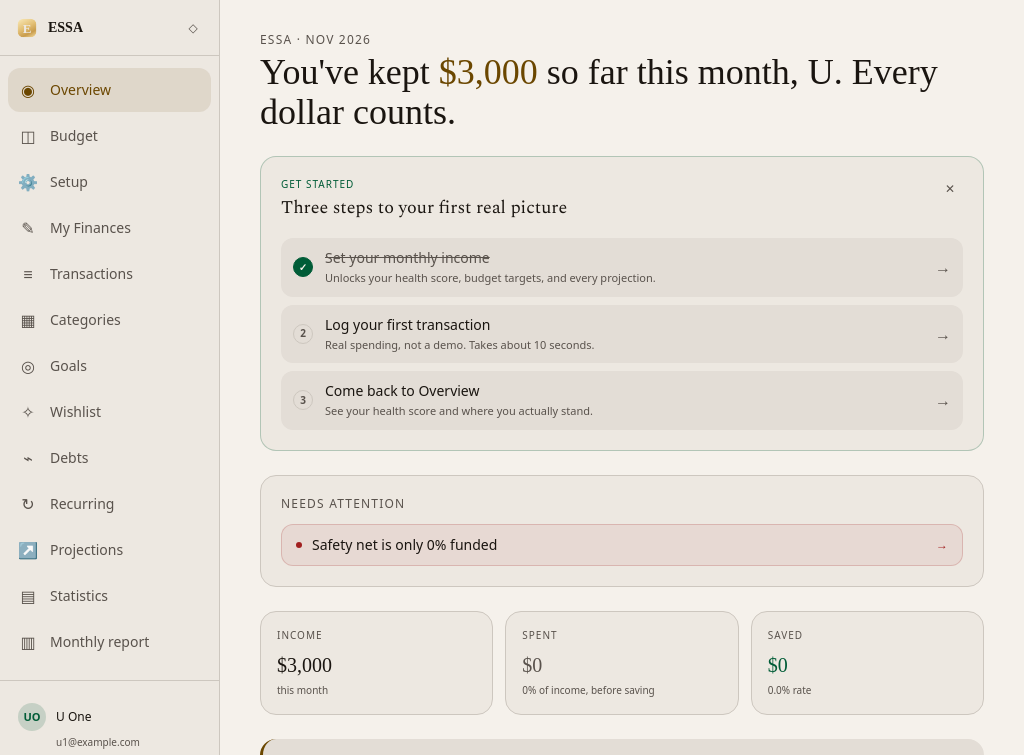
R8: the failed-backup notice sits in the page flow on a phone › stays in the flow when a save error shows too, under the save error, which is in the flow as well
Check: the button "⚙ Setup" is shown, box [8,160,211,204]
Click the button "✧ Wishlist" at (110, 412), box [8,390,211,434]
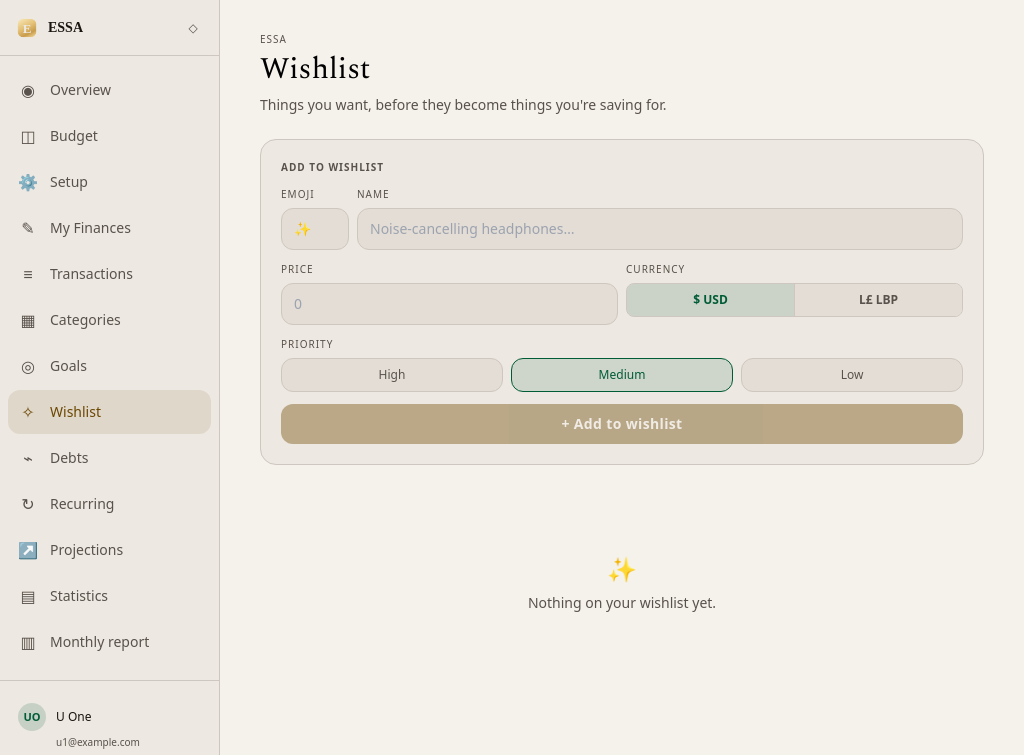
Type "Amber stool" into the field with id "wish-name" at (660, 229), box [357,208,963,250]
Type "22.15" into the field with id "wish-price" at (450, 304), box [281,283,618,325]
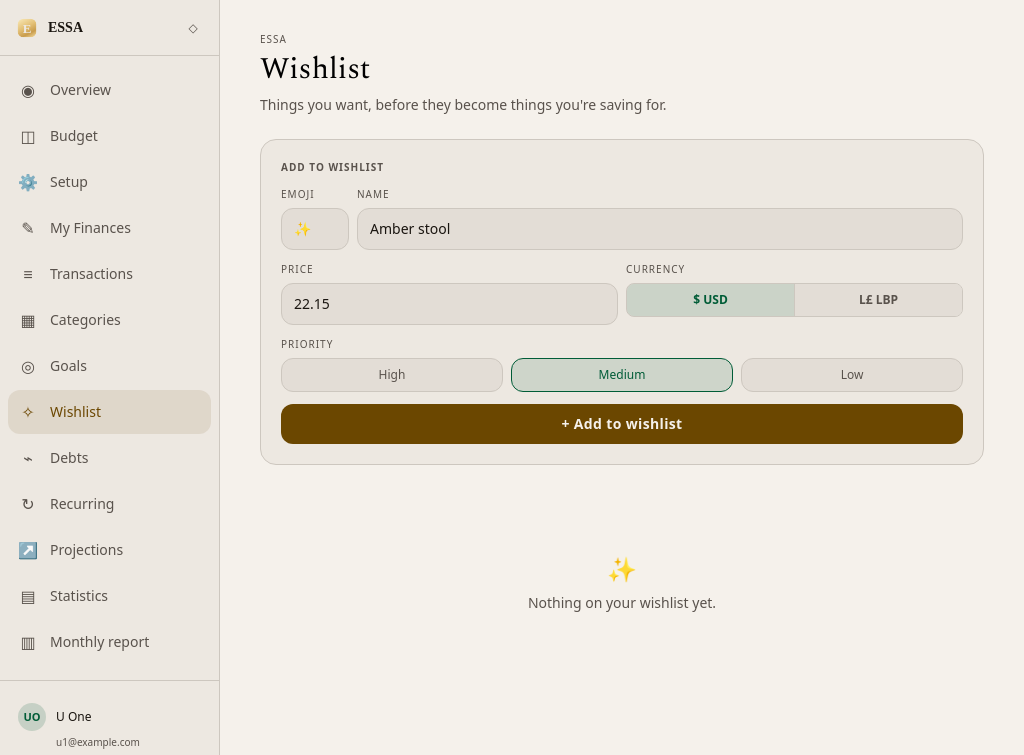
Click the button "+ Add to wishlist" at (622, 424), box [281,404,963,444]
Wait 3000 ms
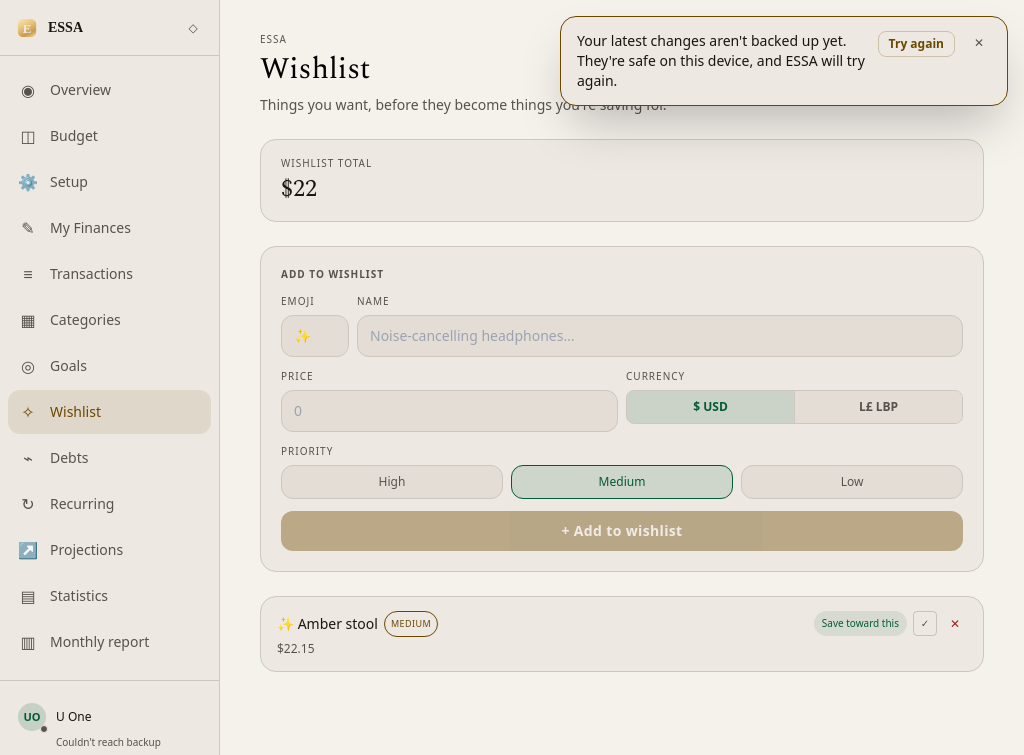
Check: the text "Your latest changes aren't backed up yet. They're safe on this device, and ESSA will try again." is shown, box [577,31,865,90]
Type "Teal lamp" into the field with id "wish-name" at (660, 336), box [357,315,963,357]
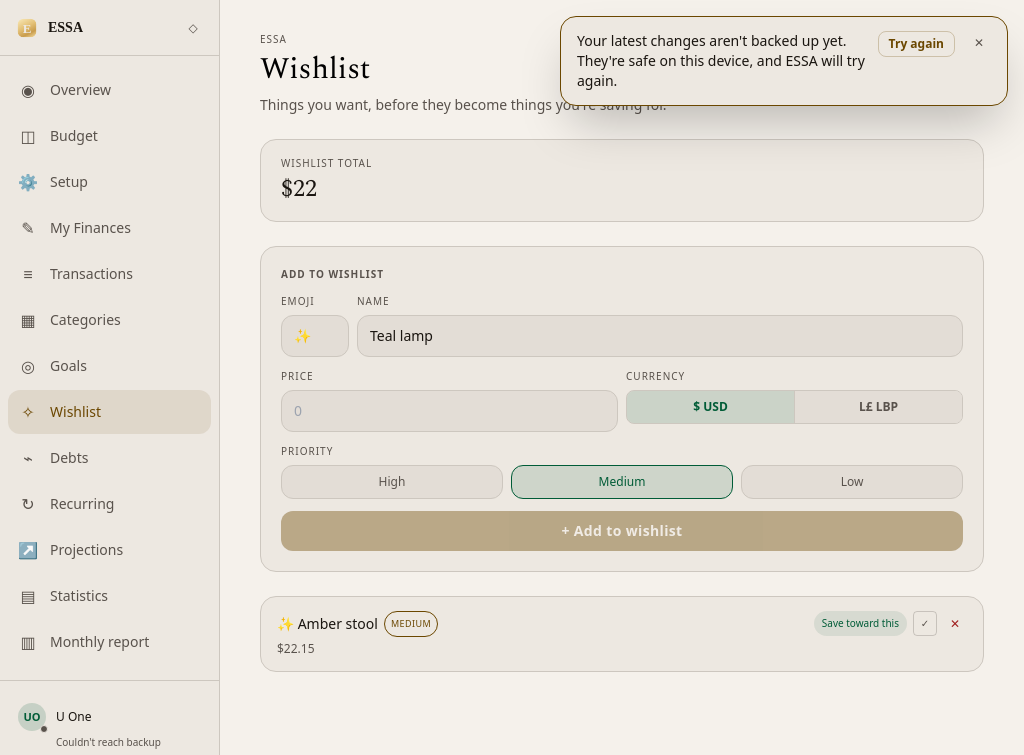
Type "31" into the field with id "wish-price" at (450, 411), box [281,390,618,432]
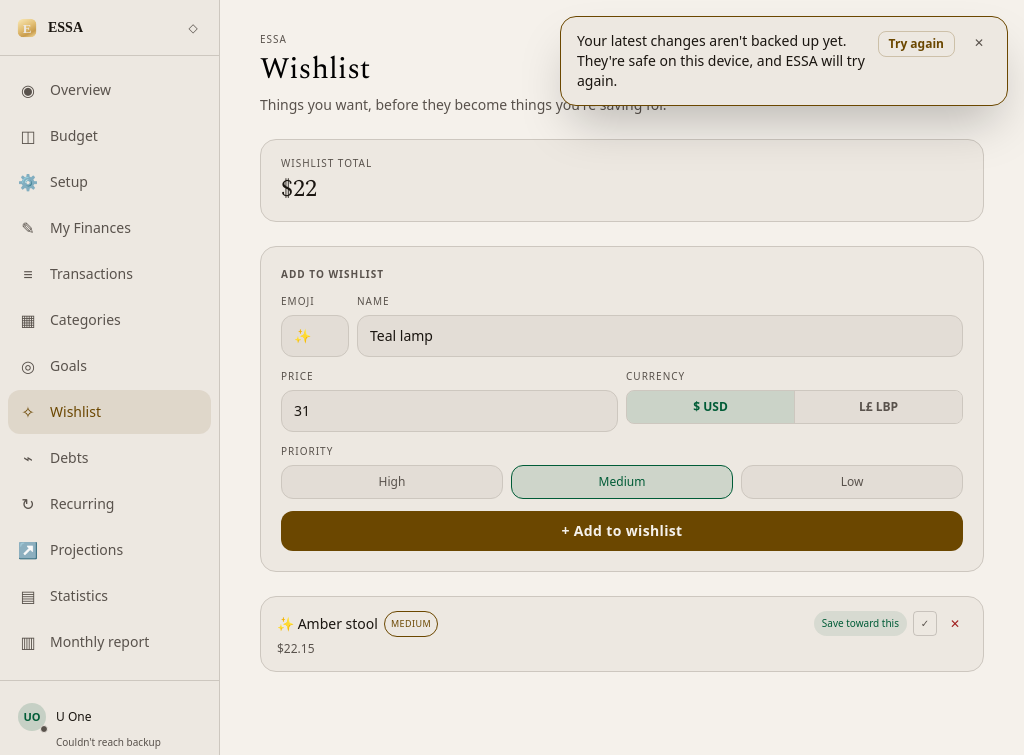
Click the button "+ Add to wishlist" at (622, 531), box [281,511,963,551]
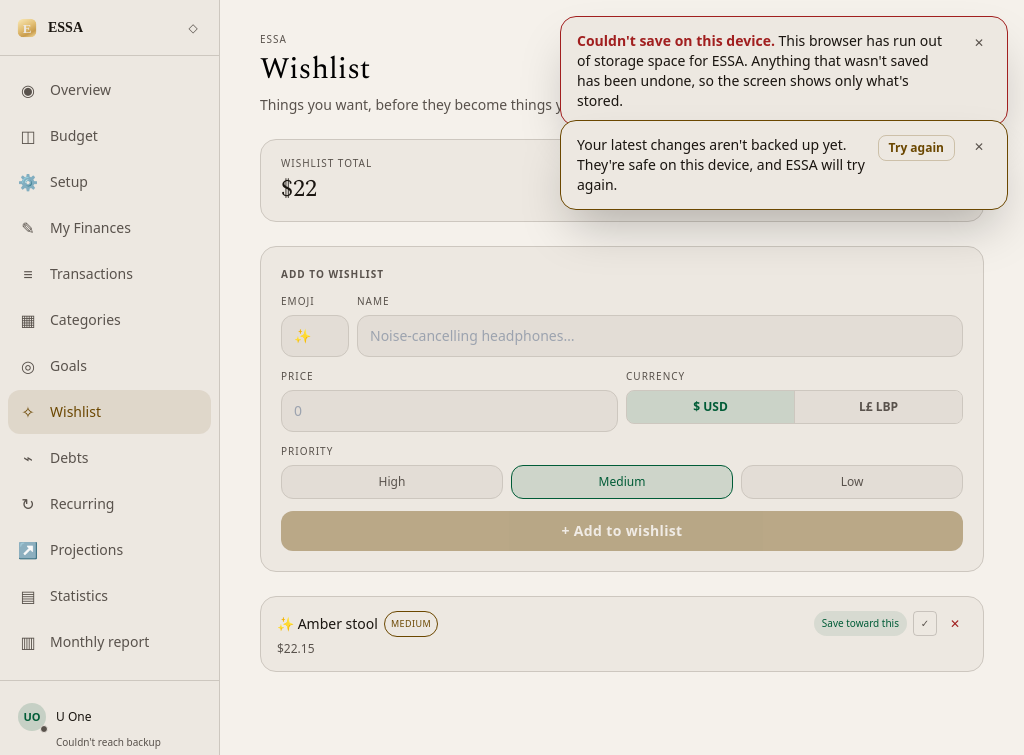
Check: the message that starts with "Couldn't save on this device." is shown, box [577,31,775,50]
